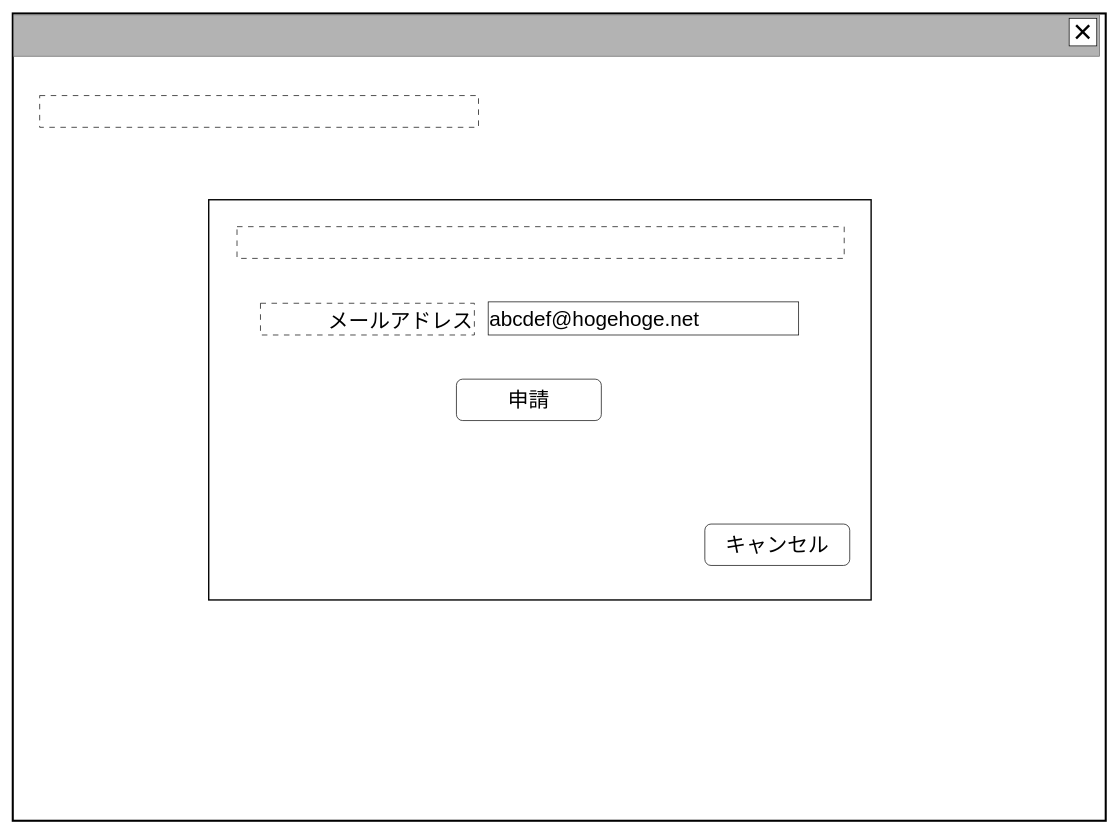
Image size: 1118x834. Some labels were removed from this diagram. The shapes that lost their labels are listed below. From the top down, each one's box as (x1, y1, x2, y2) in pixels, then its label:
(39, 95, 479, 127): 他のユーザを同じグループに招待
(236, 226, 844, 258): 同じグループにするメンバーのメールアドレスを入力する
